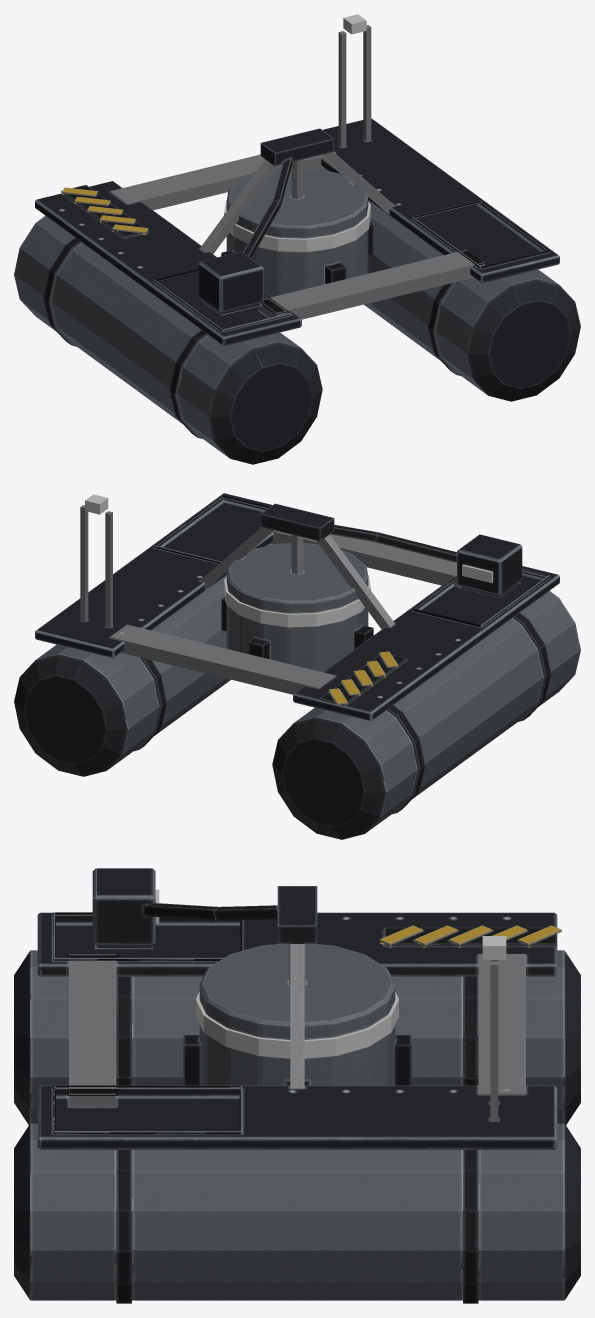
The model's file is chs_listener.fbx.
3 views of the same model, one above another, from view 1: azimuth 30°, elevation 25°; view 2: azimuth 150°, elevation 25°; view 3: azimuth 270°, elevation 25° (orthographic). The views are drawn at different scales.
Parts seen in each view (by area): view 1: base_bar, drum_bar, drum_glow_power_bar; view 2: base_bar, drum_bar, drum_glow_power_bar; view 3: base_bar, drum_bar, drum_glow_power_bar, base_glow_running_bar.
Part boxes in pixels (x1=…): base_bar: x1=14, y1=25, x2=580, y2=464; drum_bar: x1=221, y1=159, x2=373, y2=296; drum_glow_power_bar: x1=224, y1=200, x2=370, y2=251; base_bar: x1=14, y1=493, x2=580, y2=839; drum_bar: x1=221, y1=534, x2=373, y2=672; drum_glow_power_bar: x1=224, y1=575, x2=370, y2=627; base_bar: x1=14, y1=868, x2=580, y2=1303; drum_bar: x1=183, y1=944, x2=411, y2=1085; drum_glow_power_bar: x1=196, y1=992, x2=398, y2=1058; base_glow_running_bar: x1=482, y1=936, x2=506, y2=959.
Bounding box in the file's own units: 758 × 590 × 720.
Materials: 2 (2 with a texture image).
